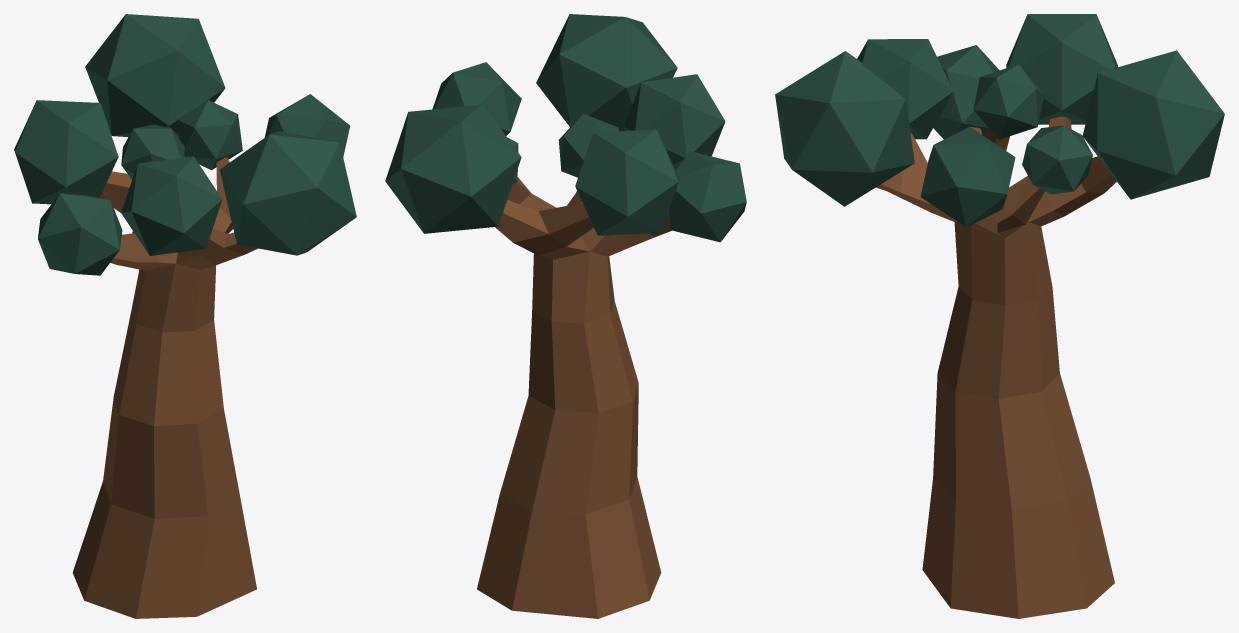
The model's file is tree2.fbx.
3 renders of one model, left to right at view 1: azimuth 30°, elevation 25°; view 2: azimuth 150°, elevation 25°; view 3: azimuth 270°, elevation 25°, orthographic. The views are drawn at different scales.
Parts seen in each view (by area): view 1: Cylinder; view 2: Cylinder; view 3: Cylinder.
Part boxes in pixels (<box>): Cylinder: <box>14,14,356,618</box>; Cylinder: <box>385,14,746,618</box>; Cylinder: <box>775,14,1224,618</box>.
Size of the model in its own units: 586 by 915 by 686.
